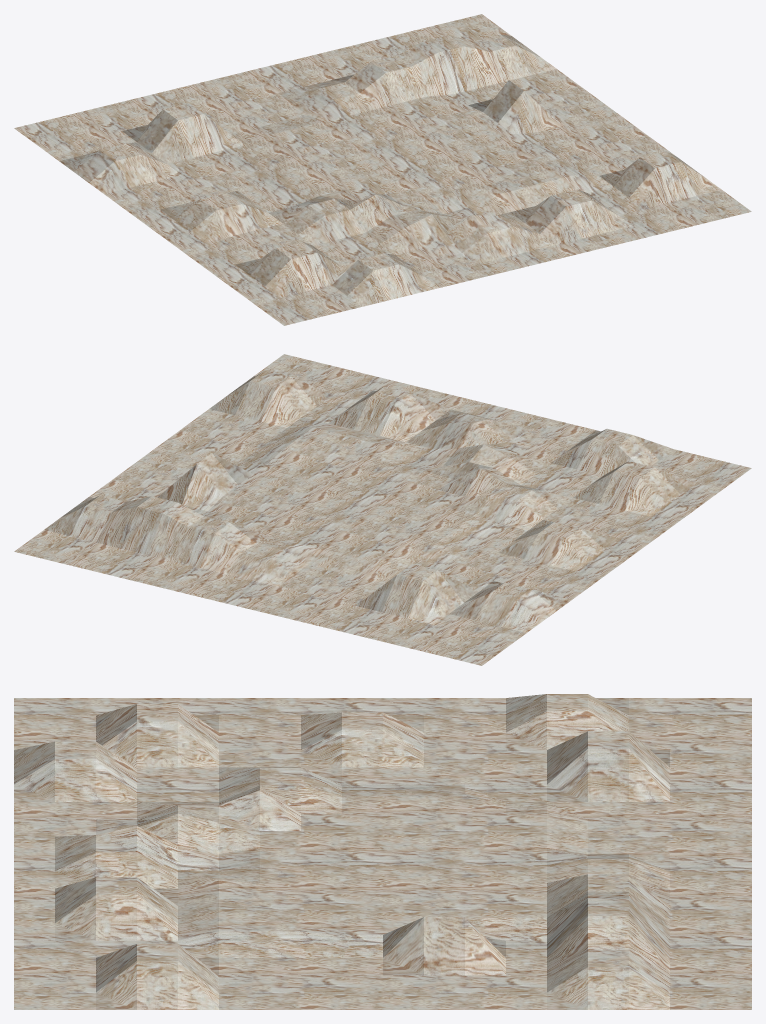
File: courser2a.obj
3 views of the same model, one above another, from view 1: azimuth 30°, elevation 25°; view 2: azimuth 150°, elevation 25°; view 3: azimuth 270°, elevation 25° (orthographic). The views are drawn at different scales.
Parts seen in each view (by area): view 1: Grid.001; view 2: Grid.001; view 3: Grid.001.
Boxes of the visible parts, x1,y1,x2,y2 form: Grid.001: (14,14,751,325); Grid.001: (14,354,751,665); Grid.001: (14,694,751,1009).
Size of the model in its own units: 40 by 2.51 by 40.
1 material, 1 textured.
